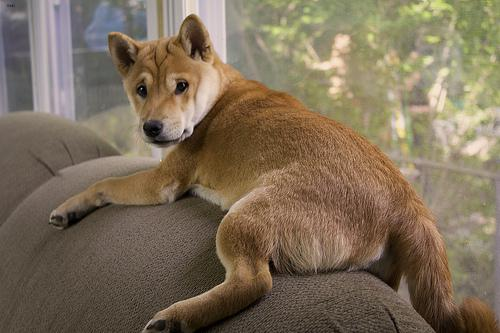dog: (107, 13, 224, 147)
